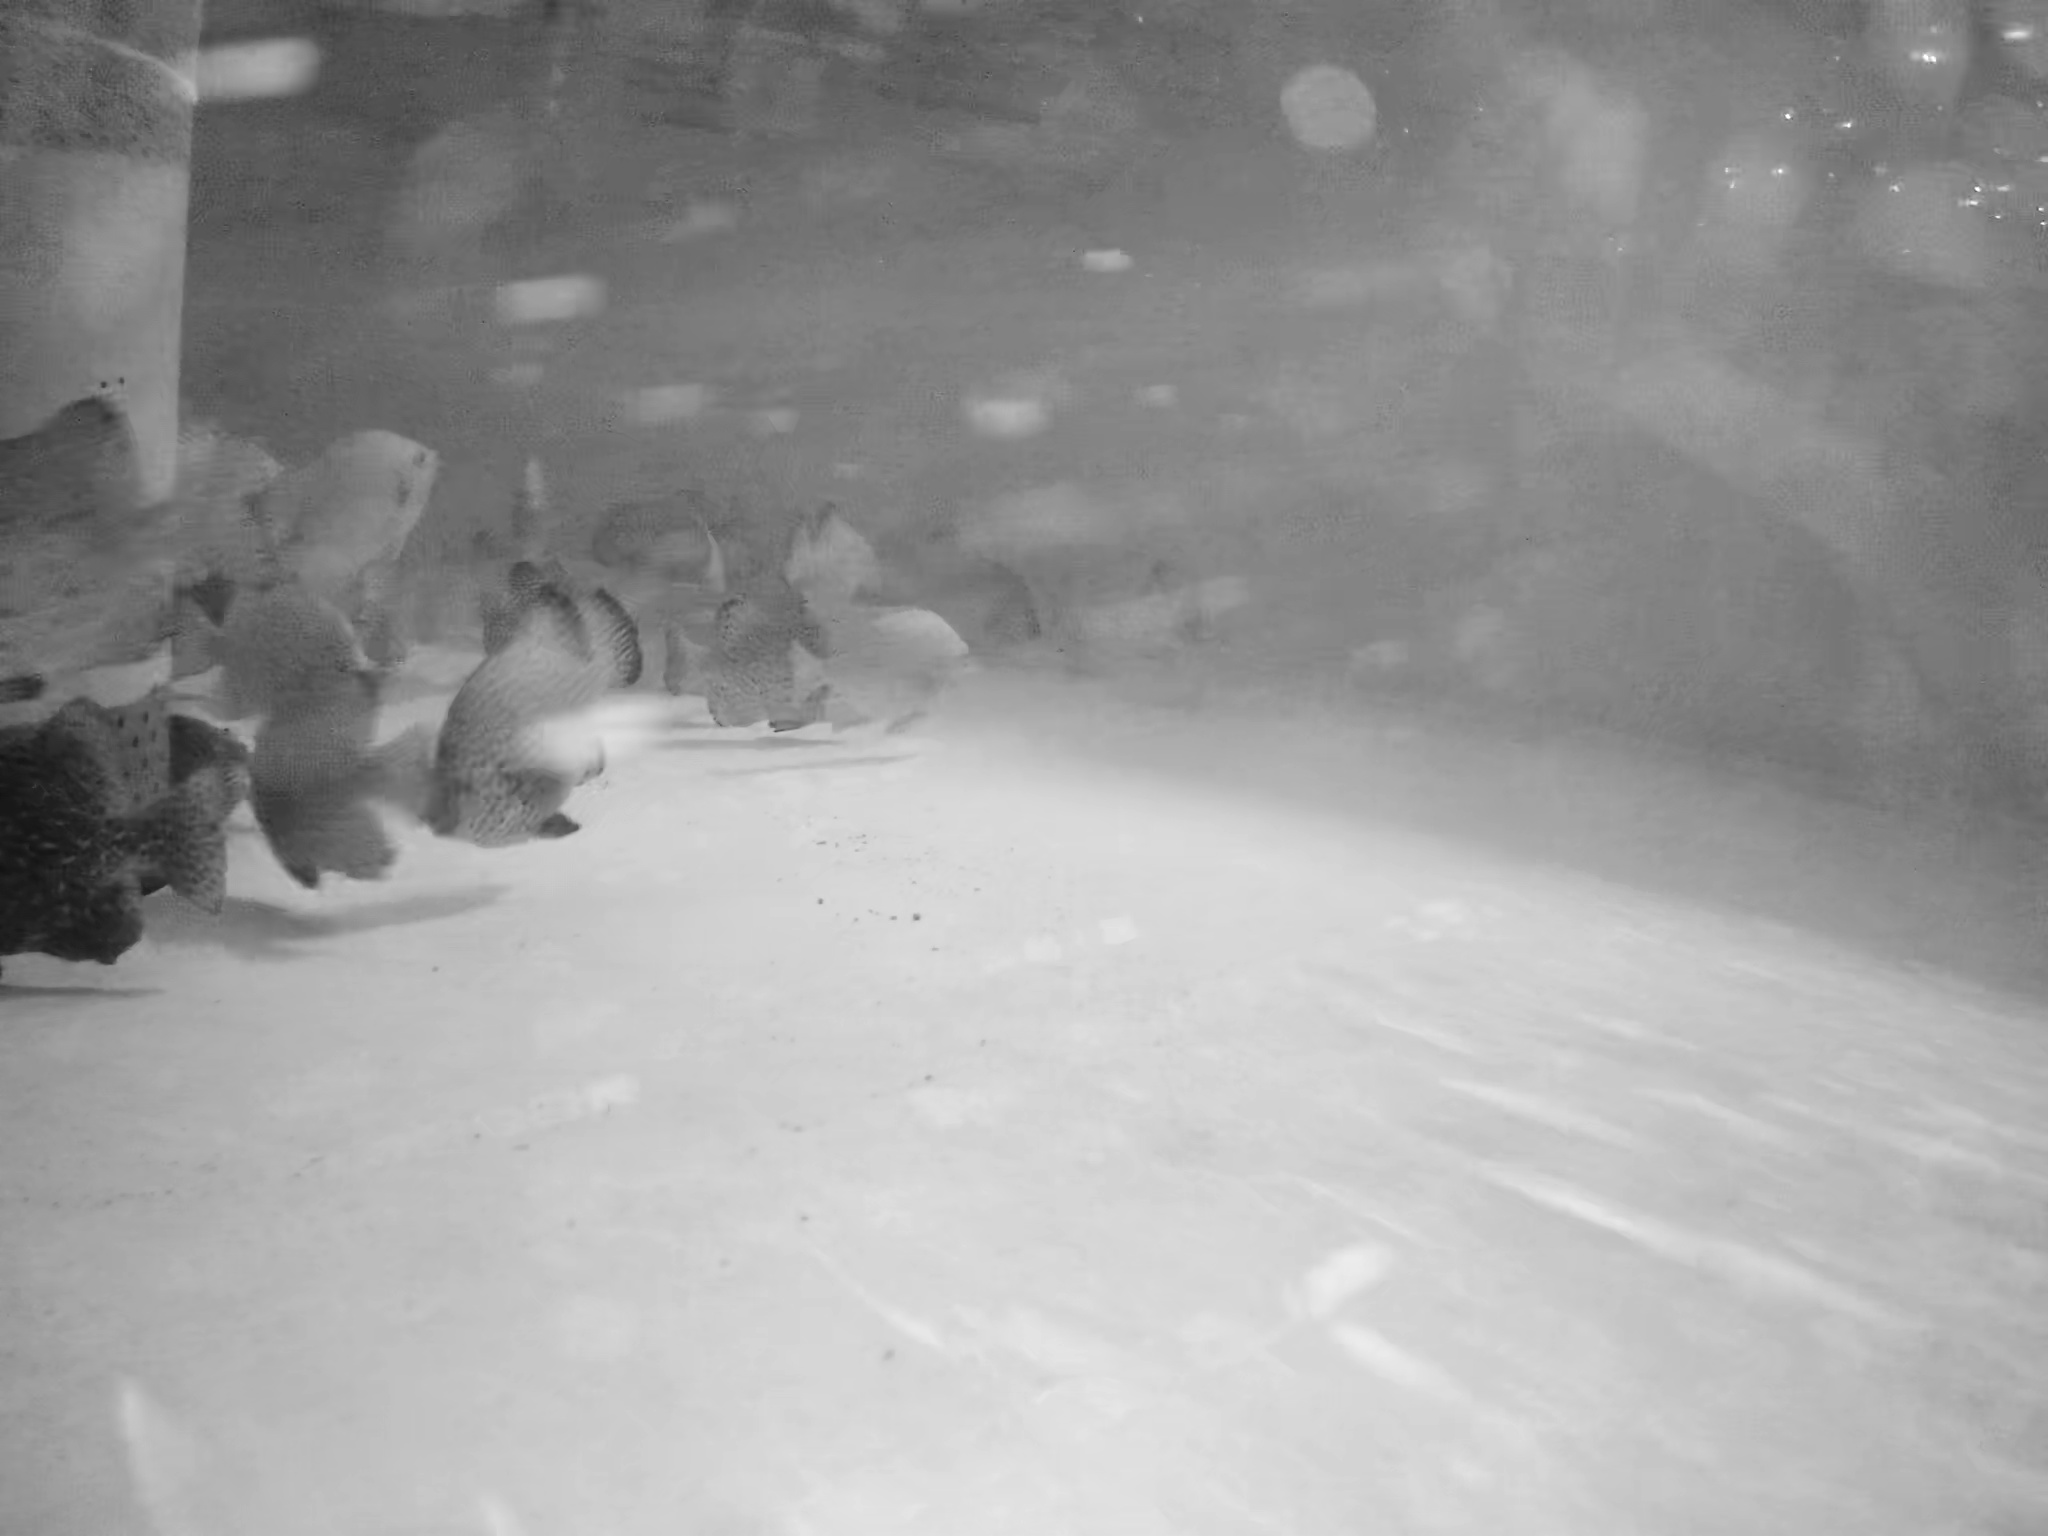fish: (10, 702, 245, 970), (427, 610, 637, 881), (8, 403, 190, 679), (240, 674, 414, 920), (568, 479, 789, 658), (235, 428, 458, 591), (789, 602, 1018, 752), (656, 608, 876, 750), (472, 440, 587, 613), (776, 502, 922, 623)
